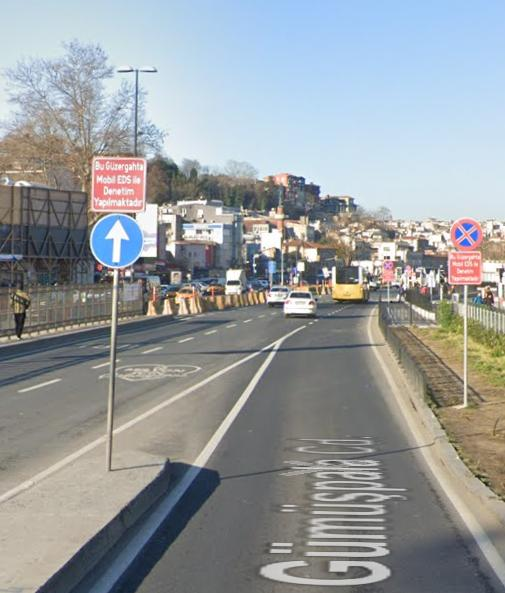forward: (90, 214, 144, 271)
